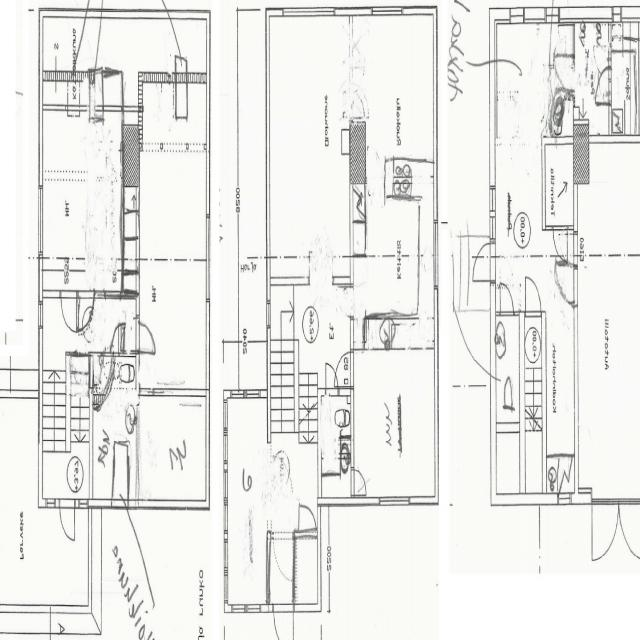door: (592, 488, 619, 563), (619, 488, 640, 563), (274, 530, 292, 580), (473, 244, 497, 280), (556, 264, 577, 304), (299, 492, 316, 538), (61, 290, 78, 335), (591, 68, 611, 105), (78, 290, 94, 335), (557, 55, 576, 92), (274, 604, 293, 640), (334, 353, 354, 387), (60, 500, 75, 543), (526, 278, 541, 316), (136, 321, 154, 352), (553, 225, 568, 262), (110, 322, 124, 356), (325, 362, 338, 398), (501, 284, 514, 315)
